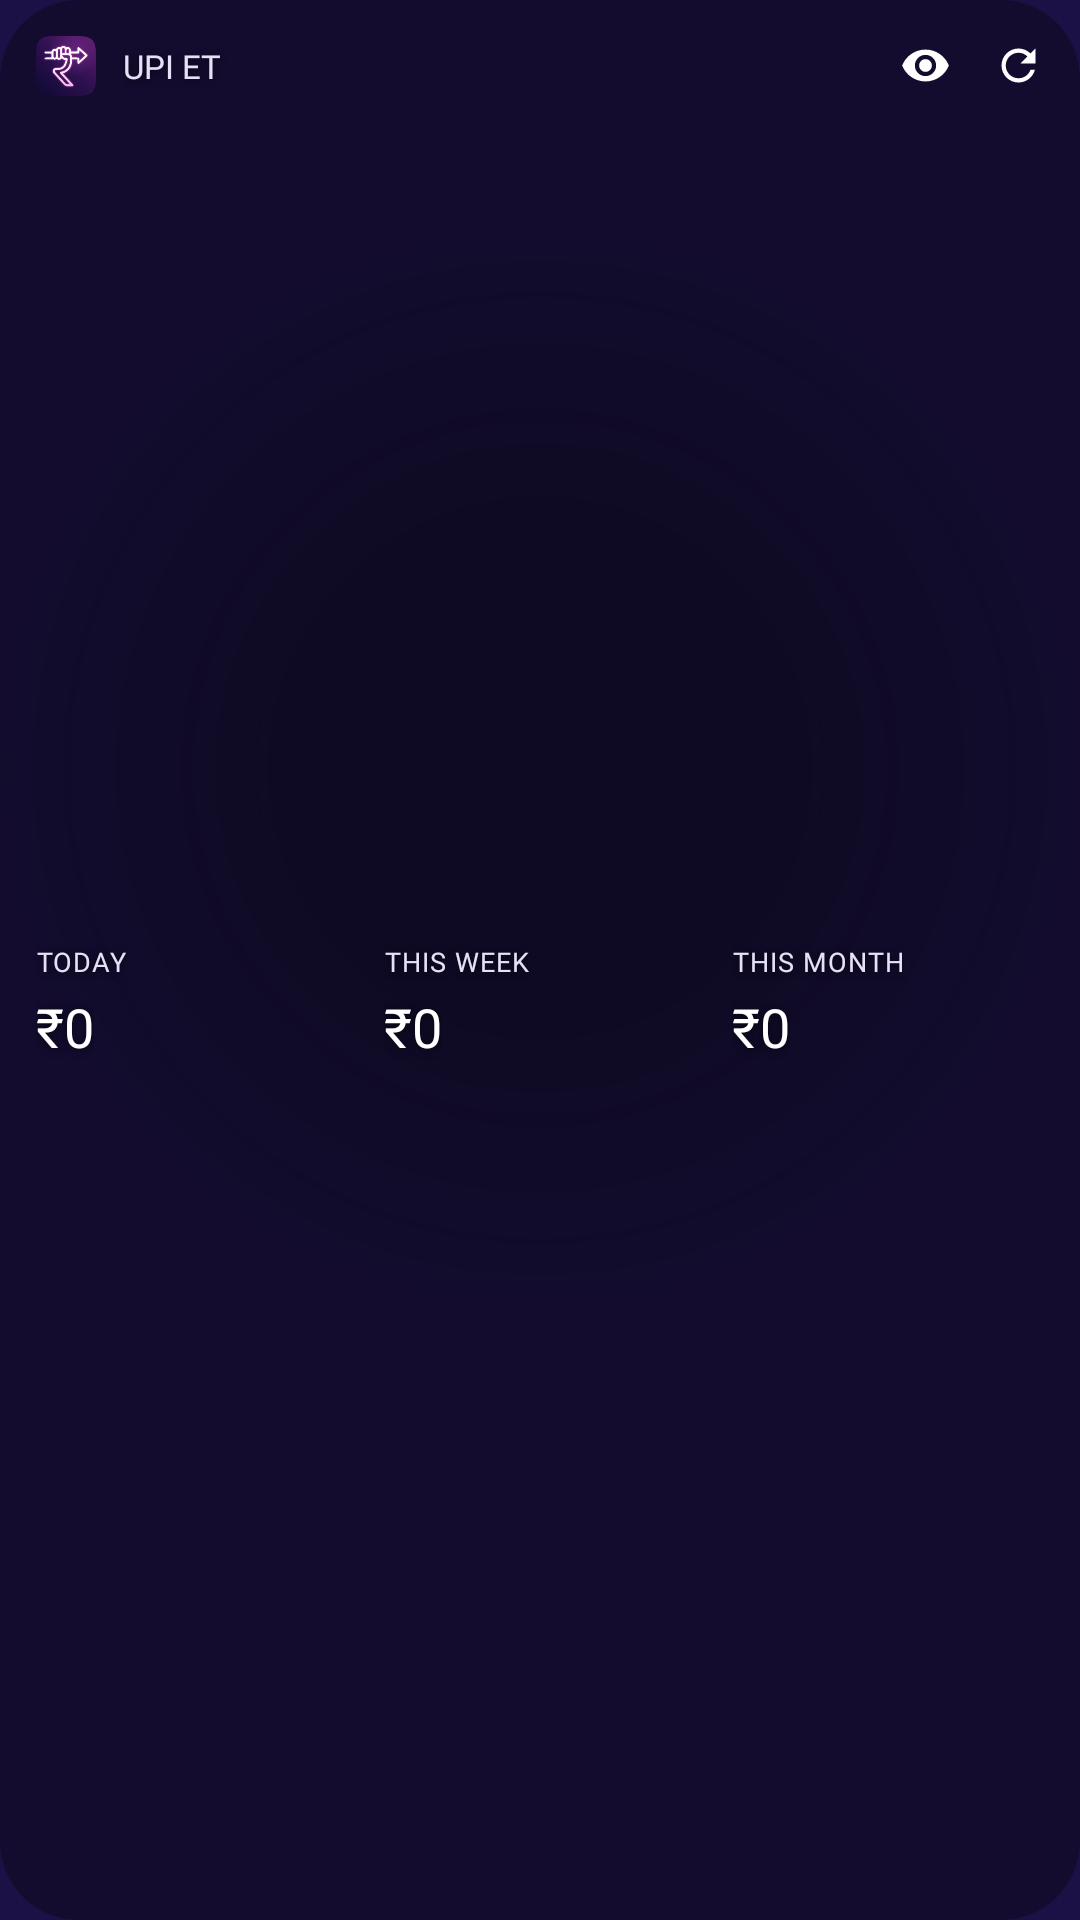

Where to tap for icons on this 1080×1920 app screen, as (x=x, y=y):
Hide amounts: (x=925, y=65)
Refresh: (x=1018, y=65)
